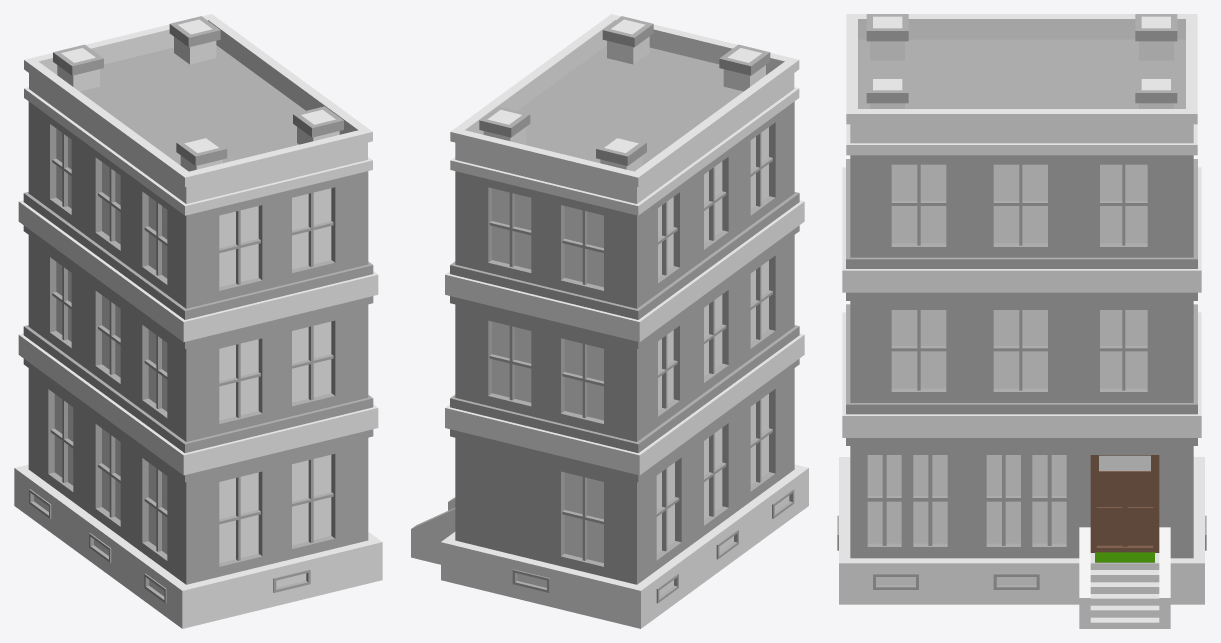
Rendered from building1.glb.
3 renders of one model, left to right at view 1: azimuth 30°, elevation 25°; view 2: azimuth 150°, elevation 25°; view 3: azimuth 270°, elevation 25°, orthographic. The views are drawn at different scales.
Visible parts, largest first — view 1: Building_04; view 2: Building_04; view 3: Building_04.
Boxes of the visible parts, <box> form: Building_04: <box>14,14,382,628</box>; Building_04: <box>411,14,808,628</box>; Building_04: <box>837,14,1206,628</box>.
Size of the model in its own units: 2.71 by 4.8 by 3.23.
